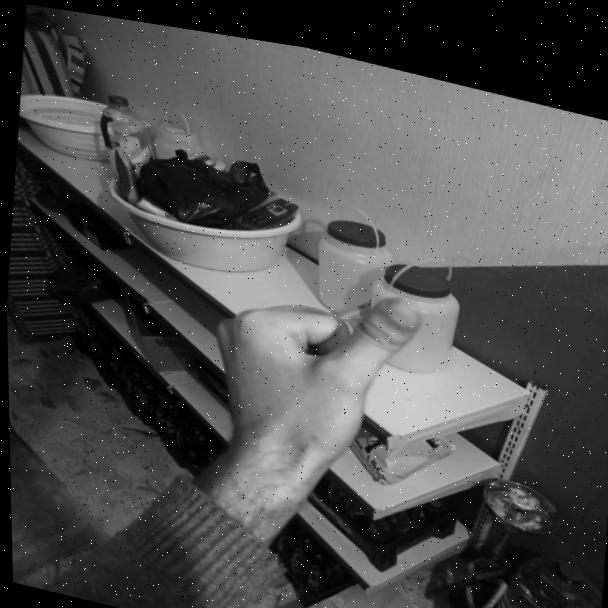five: (189, 225, 443, 514)
